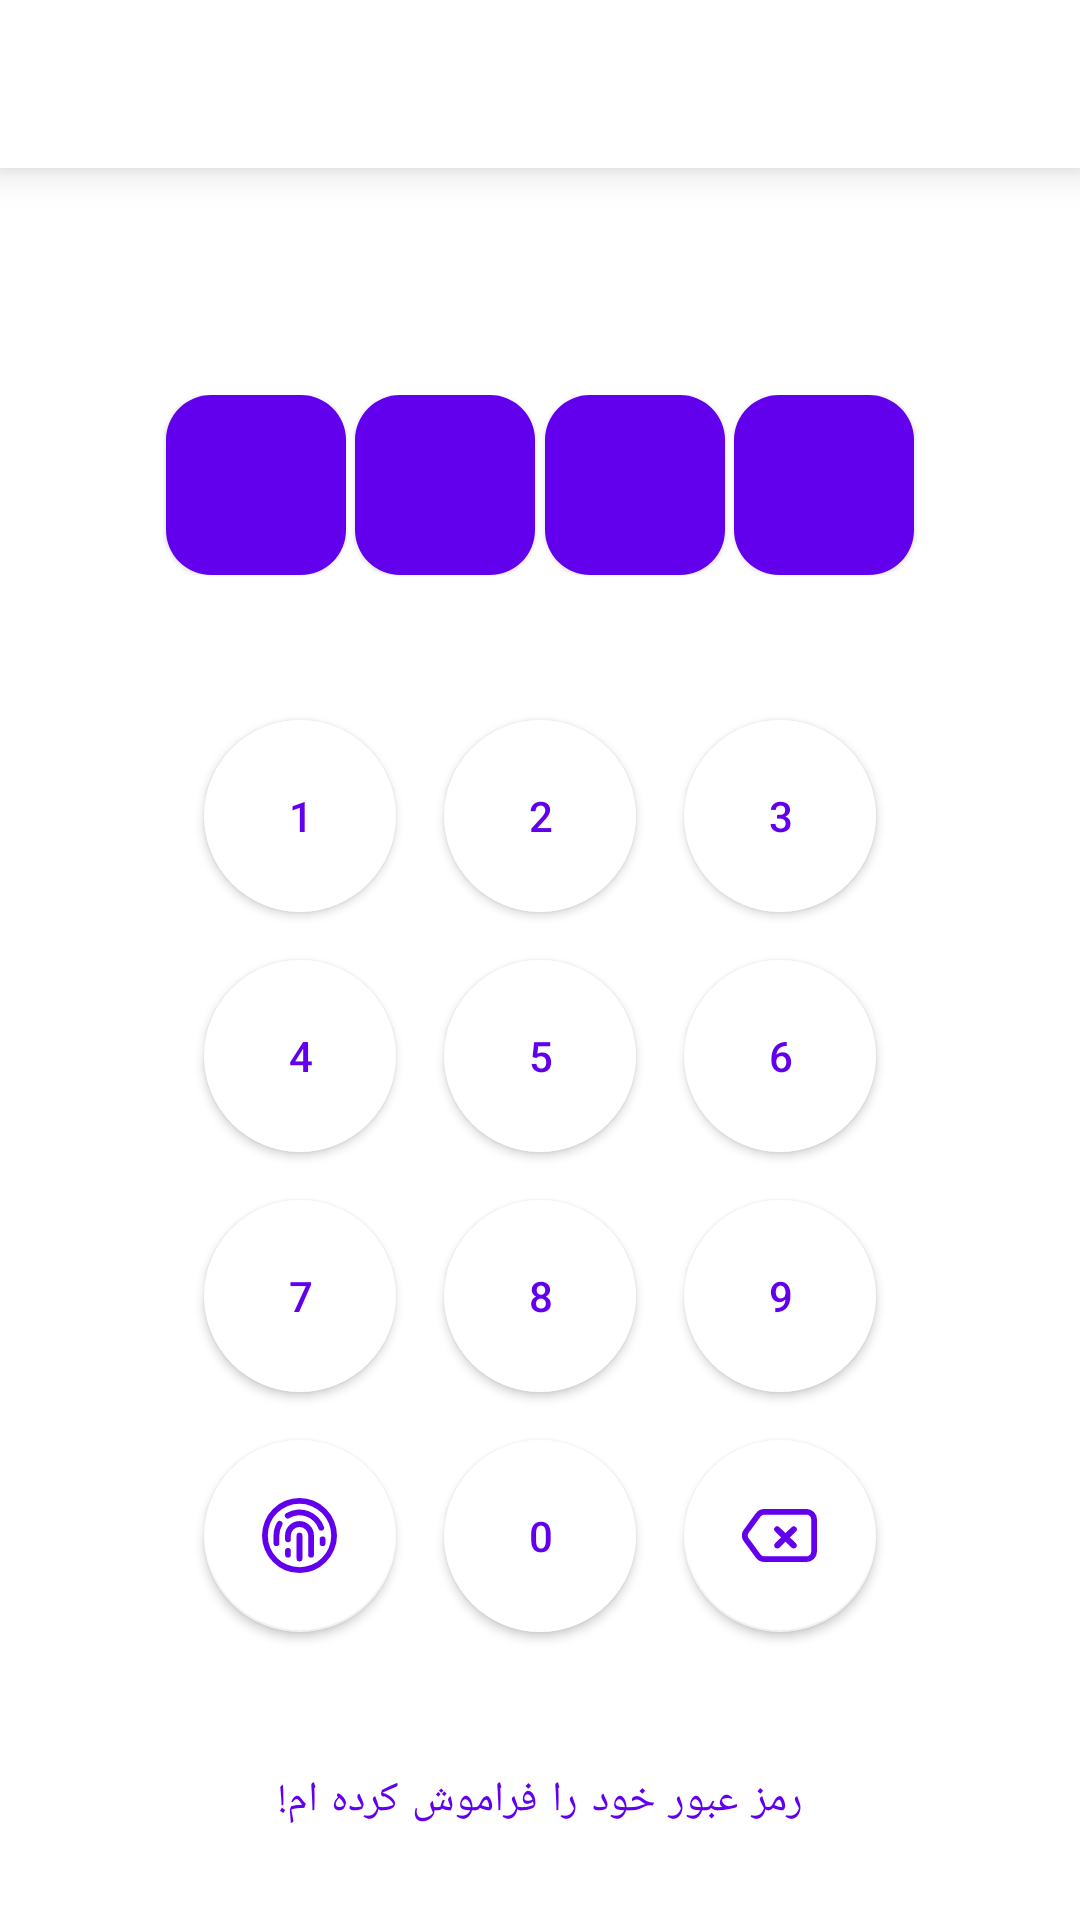

Screen size 1080px x 1920px. Icon name, then its box in pixels as (x1, y1, x2, y2):
delete last character: (686, 1509, 876, 1632)
finger print: (204, 1498, 394, 1632)
